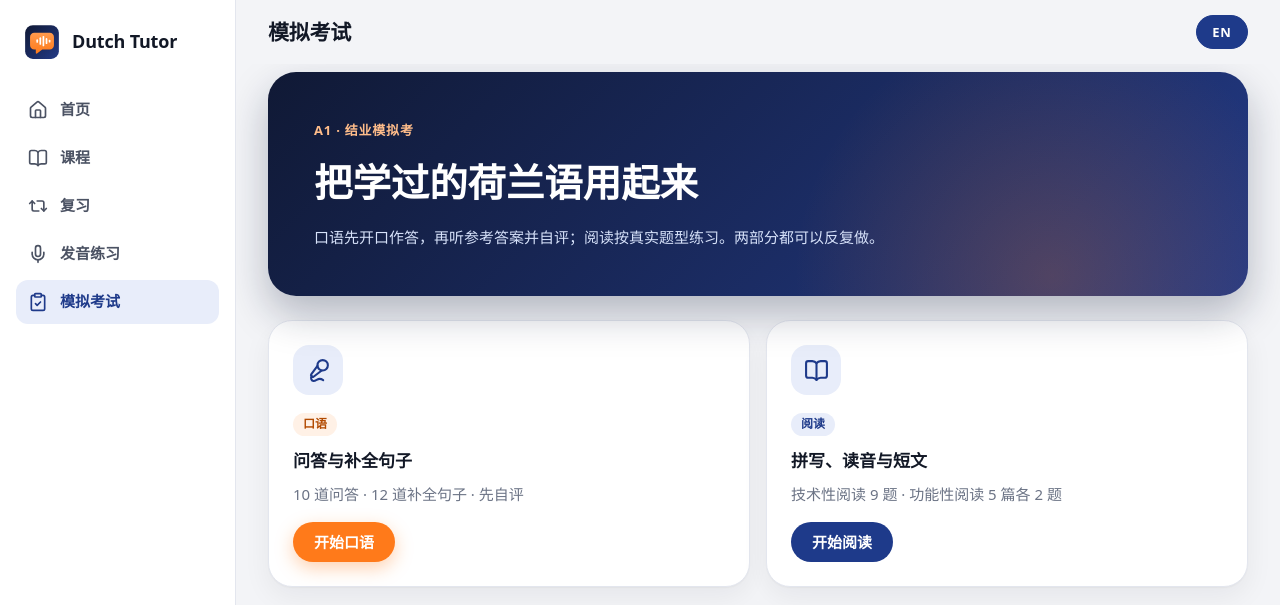
Scenario: ExamPage › opens both parts with the agreed counts and links the official exam
Click the button "开始口语": (344,542) [293,522,395,562]
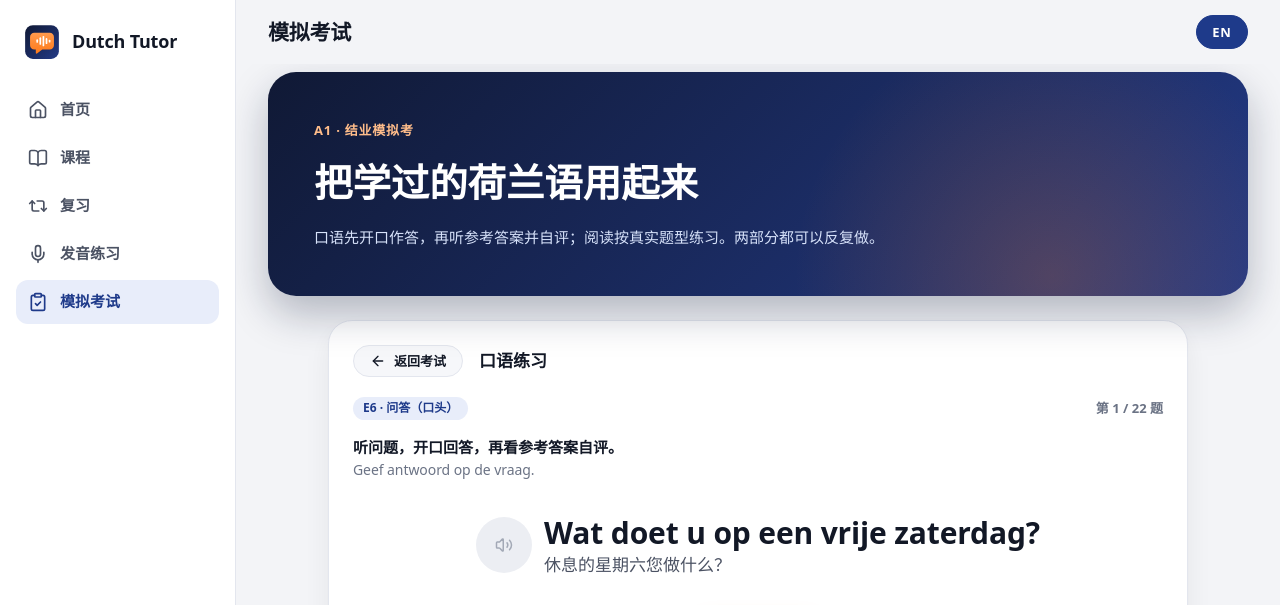
Expected: the text "第 1 / 22 题" is shown, [1096,398,1163,419]
Expected: the text "Wat doet u op een vrije zaterdag?" is shown, [544,513,1040,552]
Click the button "返回考试": (408,361) [353,345,463,377]
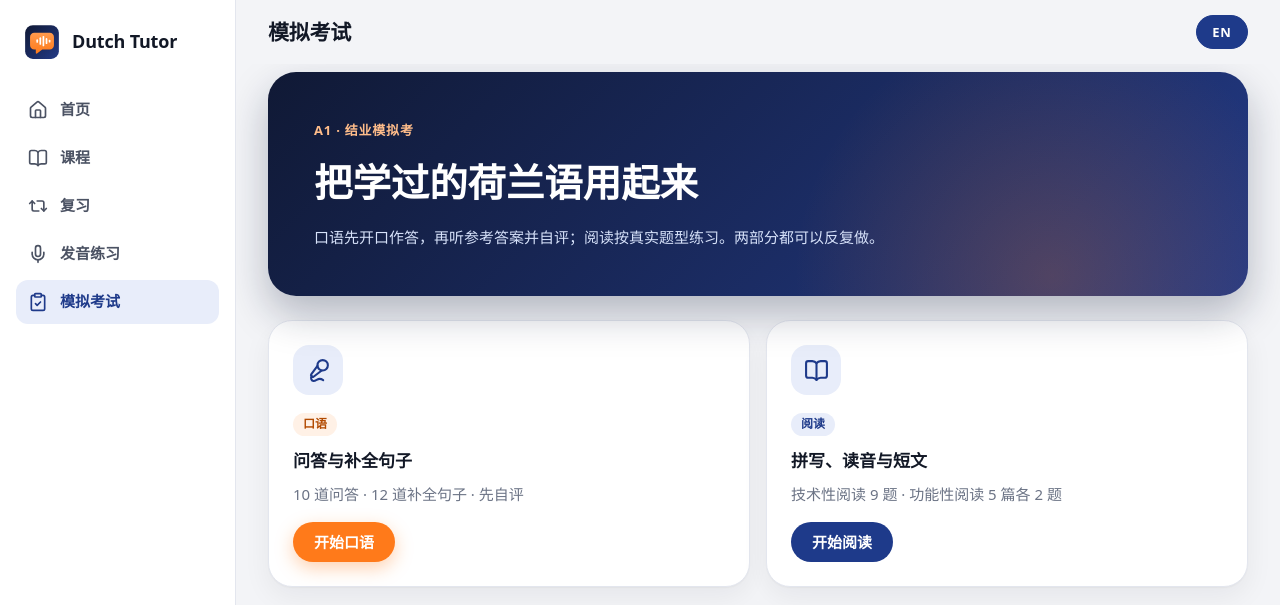
Click the button "开始阅读": (842,542) [791,522,893,562]
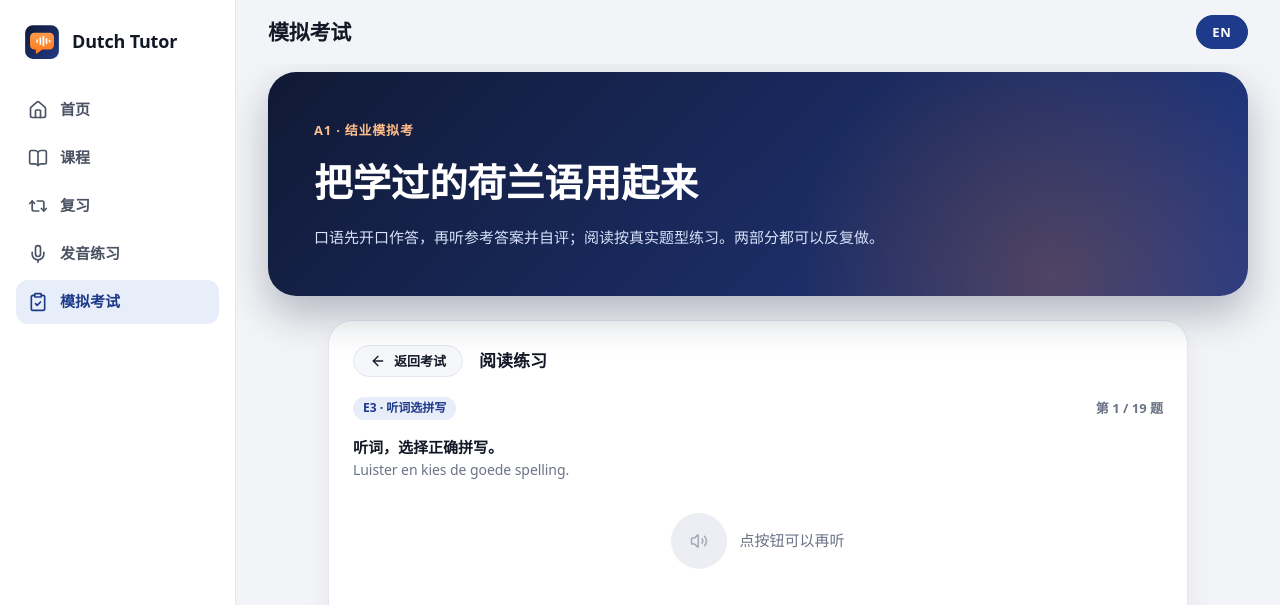
Expected: the text "第 1 / 19 题" is shown, [1096,398,1163,419]
